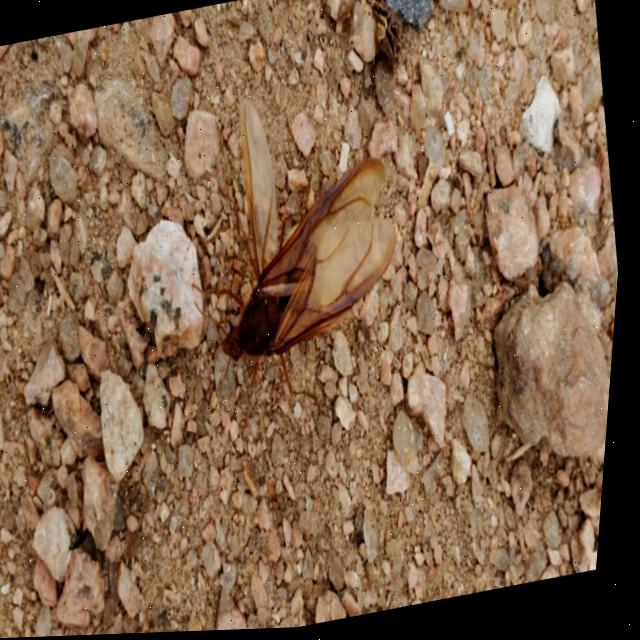Alive-Male-Alate: (158, 73, 438, 455)
